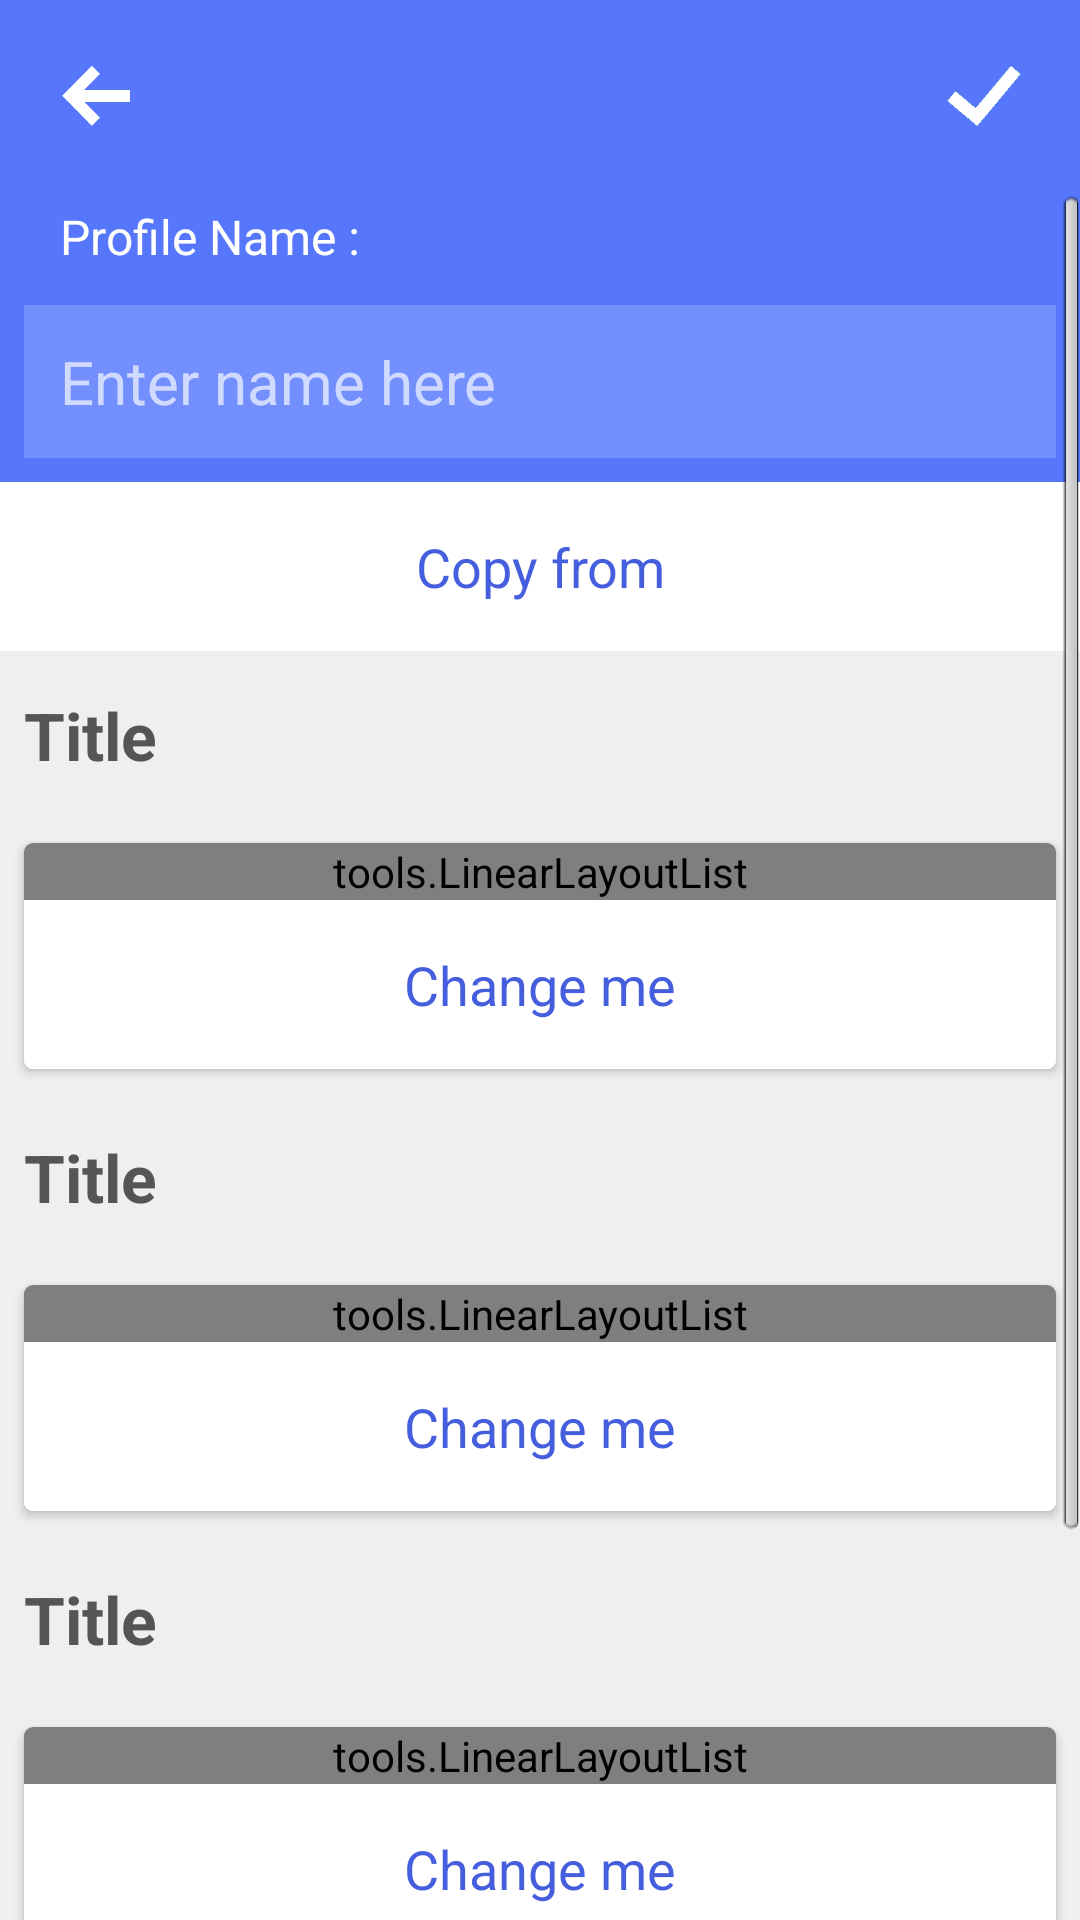

Named icons in this screenshot (1080px×1920px) and their centers, (x=x, y=y):
back: (x=96, y=96)
save: (x=984, y=96)
